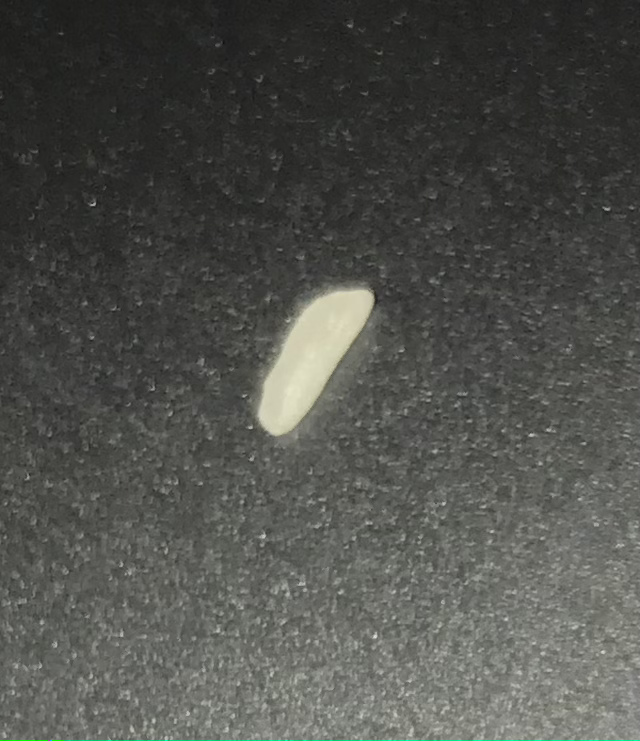Gao Tam Thom: (255, 281, 381, 451)
